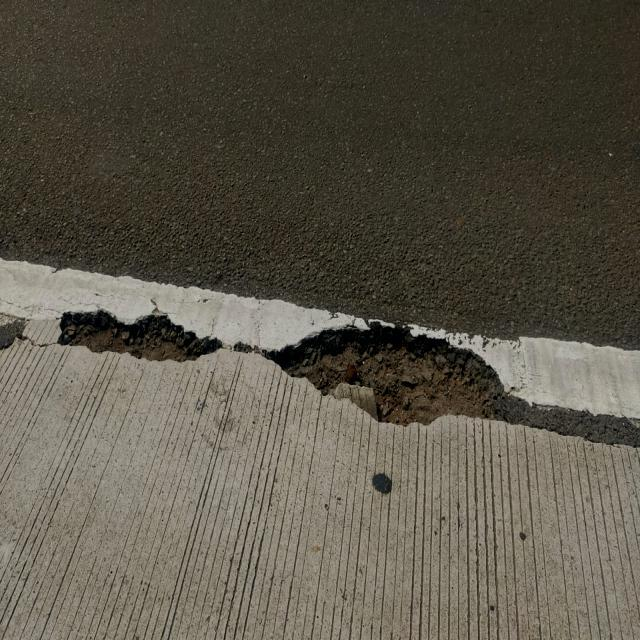Buraco: (259, 318, 512, 431), (54, 306, 227, 366)
